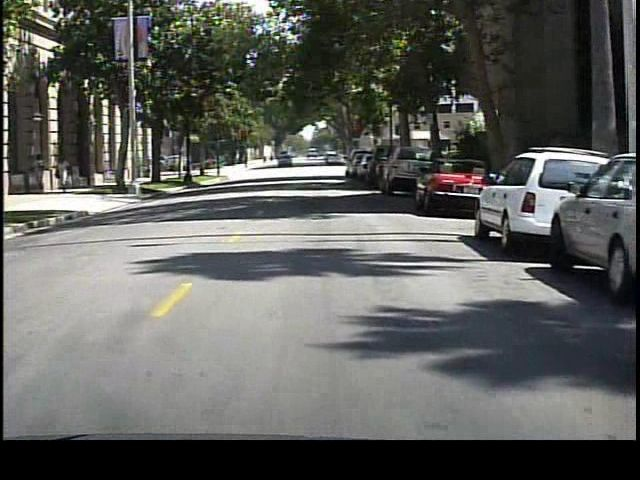person: (52, 153, 77, 194), (34, 150, 54, 192)
